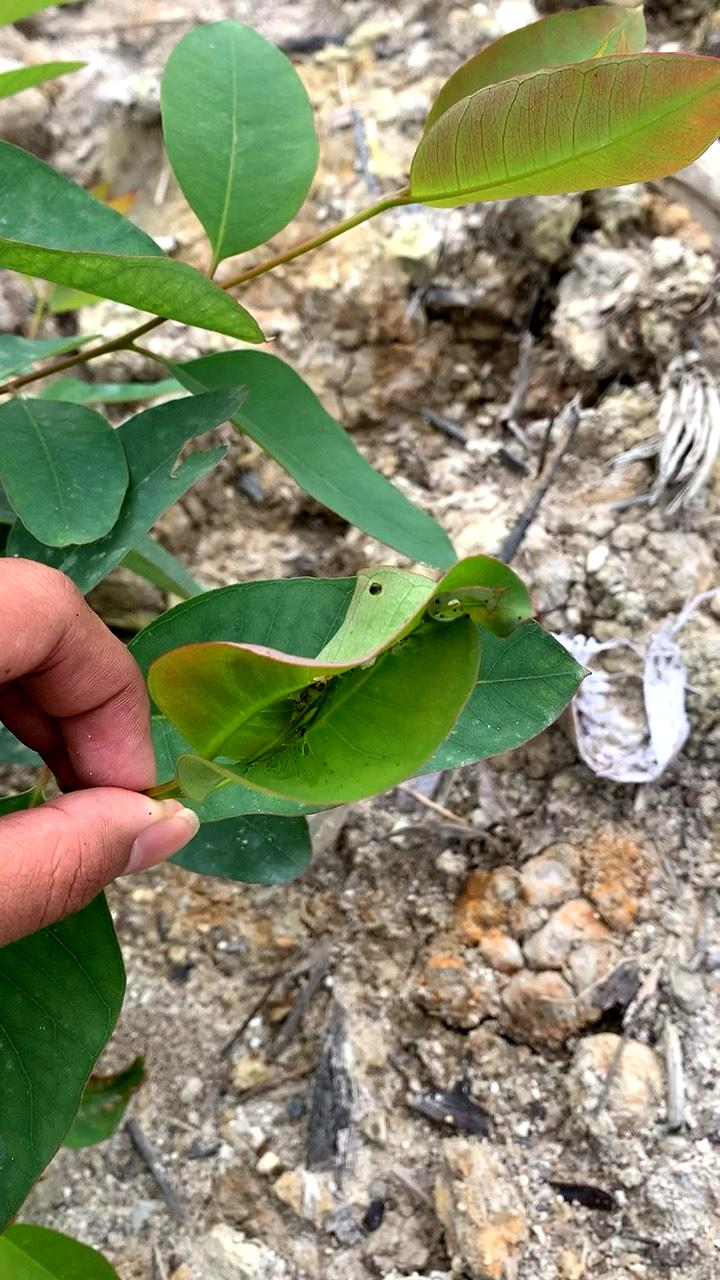Leaf Roller - Leaf: (123, 533, 565, 850)
